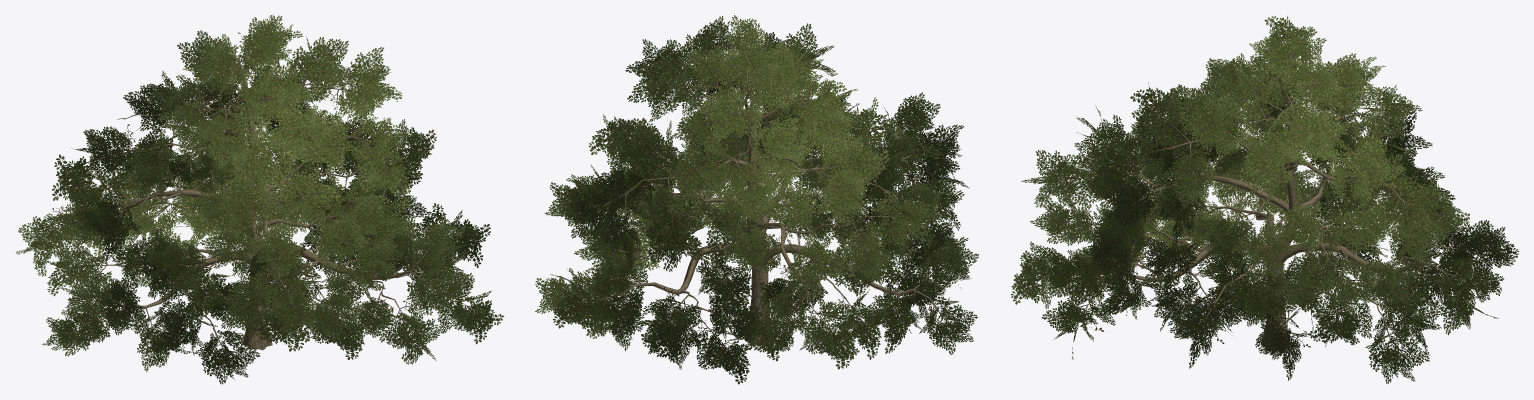
Rendered from tree.fbx.
3 renders of one model, left to right at view 1: azimuth 30°, elevation 25°; view 2: azimuth 150°, elevation 25°; view 3: azimuth 270°, elevation 25°, orthographic.
Visible parts, largest first — view 1: tree_canopy_mesh, tree_wood_mesh; view 2: tree_canopy_mesh, tree_wood_mesh; view 3: tree_canopy_mesh, tree_wood_mesh.
Part boxes in pixels (box(x1,y1,x2,y2)): tree_canopy_mesh: box(16, 15, 504, 384); tree_wood_mesh: box(50, 45, 469, 353); tree_canopy_mesh: box(535, 15, 978, 384); tree_wood_mesh: box(580, 47, 946, 346); tree_canopy_mesh: box(1011, 16, 1518, 383); tree_wood_mesh: box(1063, 54, 1478, 349).
Size of the model in its own units: 1205 by 911 by 1288.
